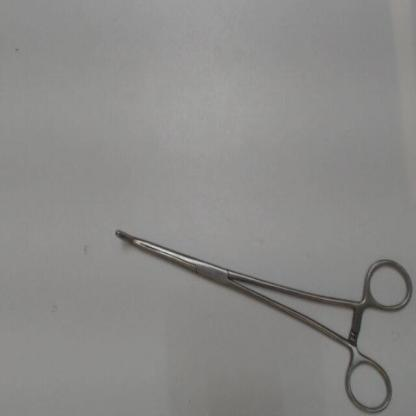Lahey Forceps: (109, 218, 414, 414)
